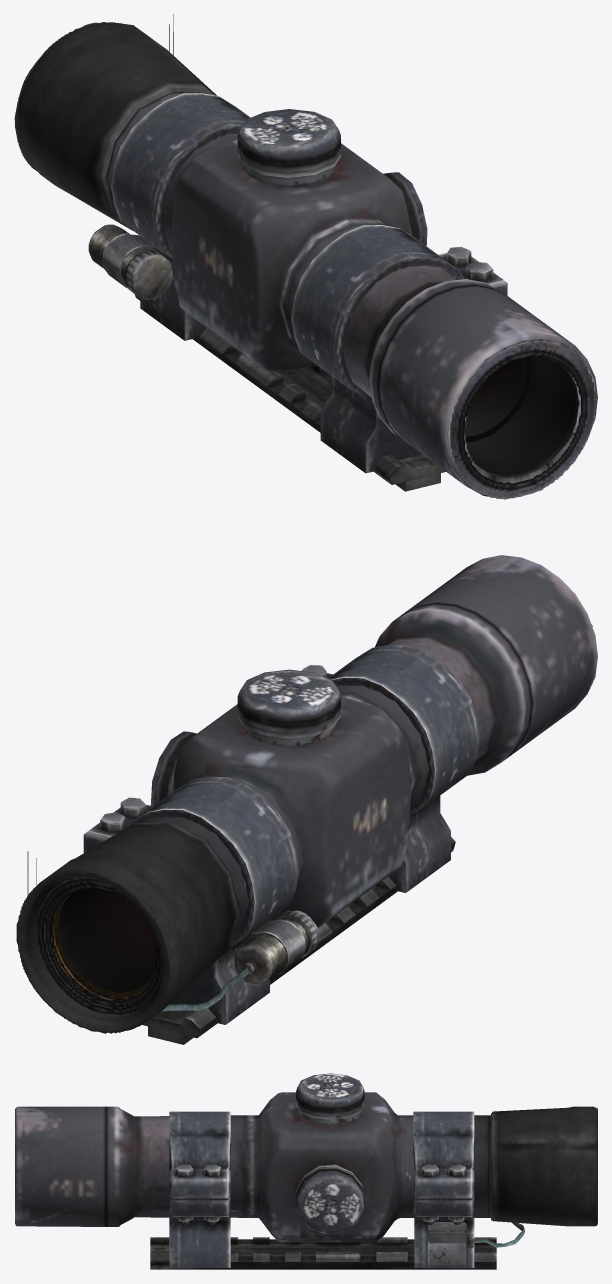
File: optica.obj
The picture shows the model from 3 angles, top to bottom: view 1: azimuth 30°, elevation 25°; view 2: azimuth 150°, elevation 25°; view 3: azimuth 270°, elevation 25°; orthographic projection. The views are drawn at different scales.
Parts seen in each view (by area): view 1: wpn34_gun_pricel, wpn_obves, wpn34_kollimator; view 2: wpn34_gun_pricel, wpn_obves, wpn34_kollimator; view 3: wpn34_gun_pricel, wpn34_kollimator.
Part boxes in pixels (x1,y1,x2,y2): wpn34_gun_pricel: (14,22,597,498); wpn_obves: (43,14,596,499); wpn34_kollimator: (135,294,445,491); wpn34_gun_pricel: (16,555,597,1033); wpn_obves: (27,624,592,1014); wpn34_kollimator: (142,837,455,1044); wpn34_gun_pricel: (15,1073,597,1267); wpn34_kollimator: (150,1237,496,1269).
Bounding box in the file's own units: 0.0577 × 0.0692 × 0.207.
3 materials, 3 textured.
